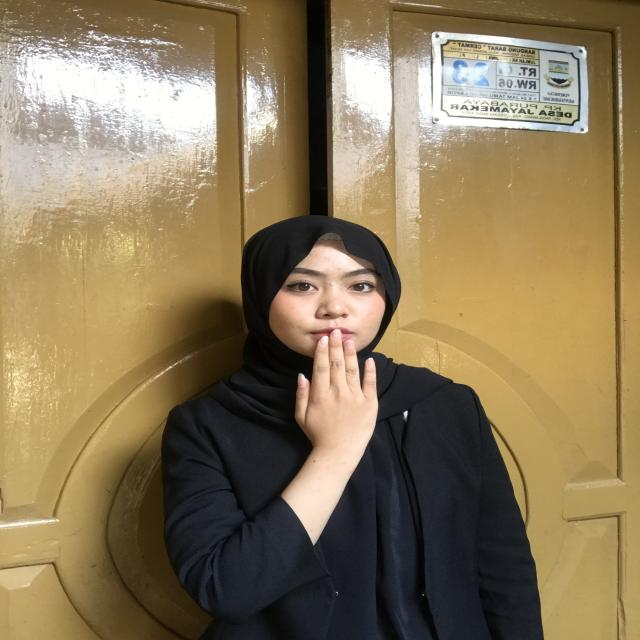ganteng: (278, 329, 392, 476)
